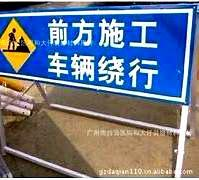sign: (3, 6, 193, 97)
